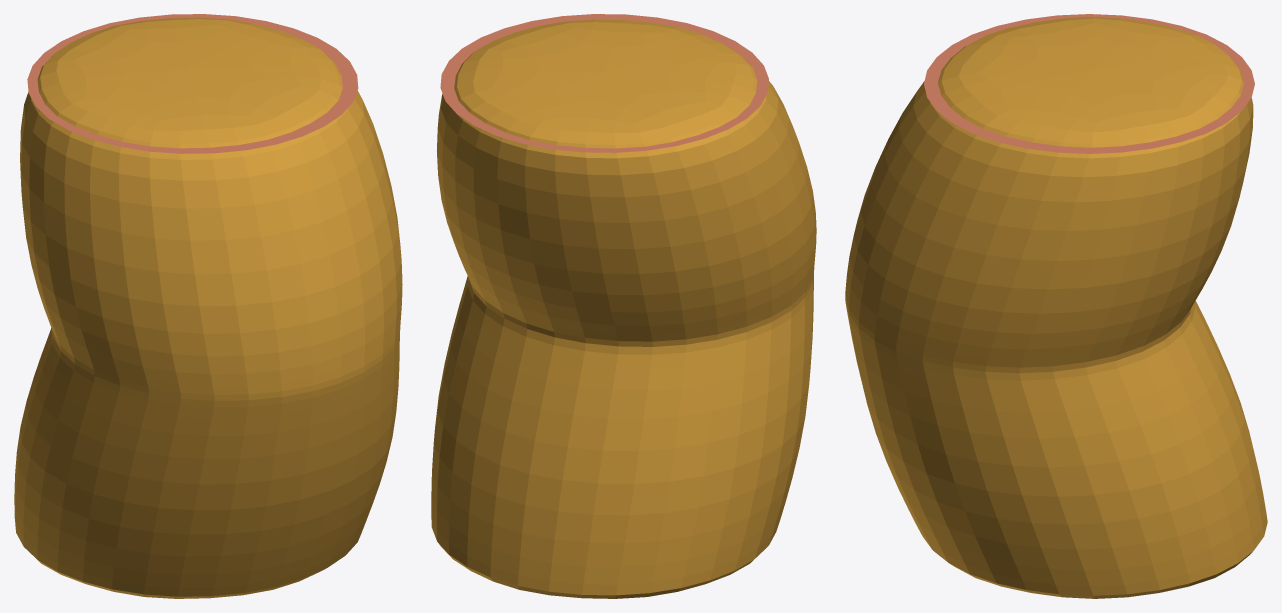
File: aneome01.fbx
The picture shows the model from 3 angles, left to right: view 1: azimuth 30°, elevation 25°; view 2: azimuth 150°, elevation 25°; view 3: azimuth 270°, elevation 25°; orthographic projection.
Visible parts, largest first — view 1: Cylinder, Circle; view 2: Cylinder, Circle; view 3: Cylinder, Circle.
Part boxes in pixels (x1=…): Cylinder: x1=14, y1=17, x2=402, y2=598; Circle: x1=27, y1=14, x2=358, y2=153; Cylinder: x1=431, y1=19, x2=816, y2=598; Circle: x1=440, y1=14, x2=768, y2=152; Cylinder: x1=845, y1=17, x2=1267, y2=598; Circle: x1=924, y1=14, x2=1254, y2=153.
Bounding box in the file's own units: 89.62 × 121 × 101.
